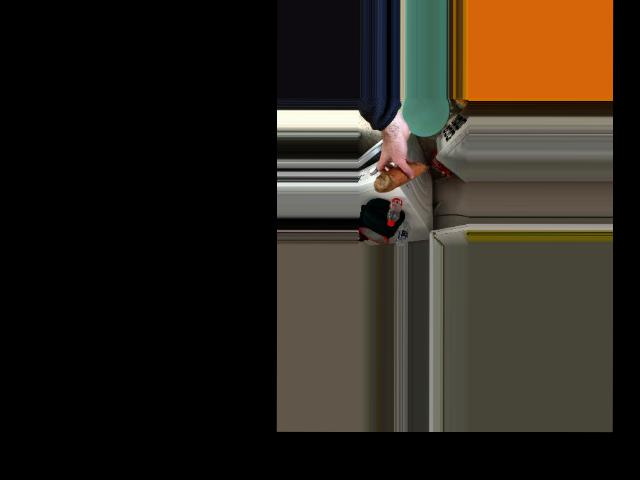sweet_potato: (377, 157, 425, 194)
